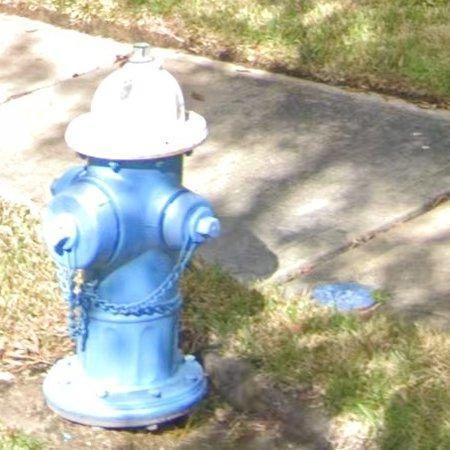a fire hydrant: (43, 44, 221, 429)
